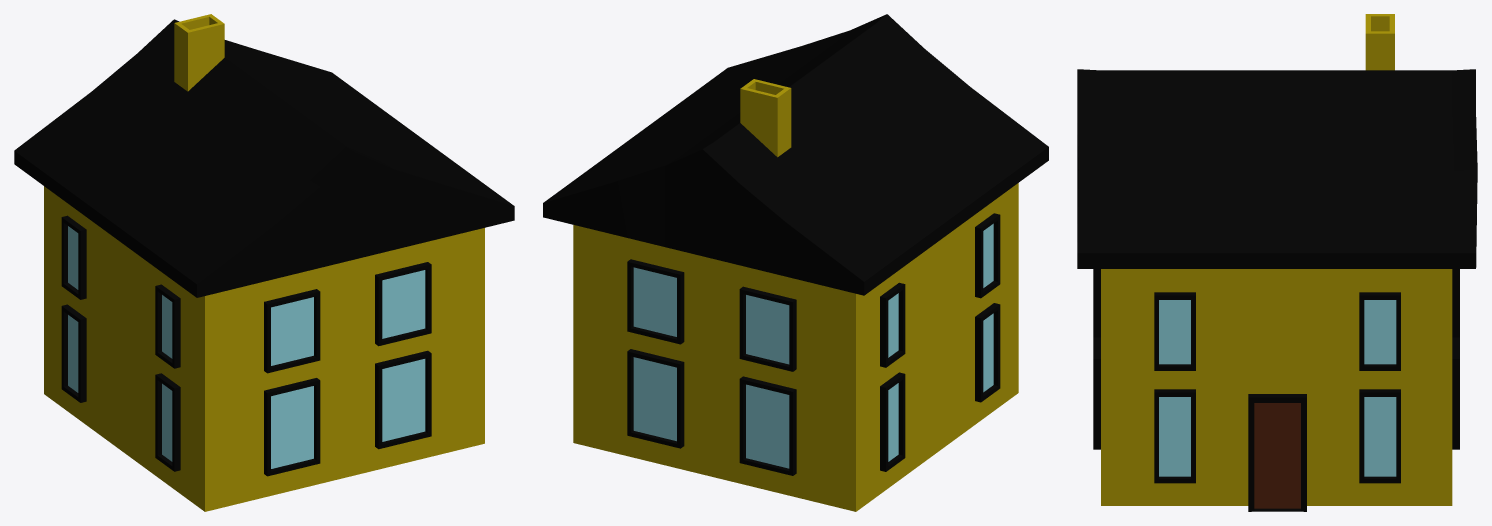
File: Houses03.fbx
The picture shows the model from 3 angles, left to right: view 1: azimuth 30°, elevation 25°; view 2: azimuth 150°, elevation 25°; view 3: azimuth 270°, elevation 25°; orthographic projection. The views are drawn at different scales.
Visible parts, largest first — view 1: Plane.007; view 2: Plane.007; view 3: Plane.007.
Boxes of the visible parts, <box> form: Plane.007: <box>14,14,514,511</box>; Plane.007: <box>543,14,1048,511</box>; Plane.007: <box>1077,14,1477,511</box>.
Bounding box in the file's own units: 400 × 442 × 400.
